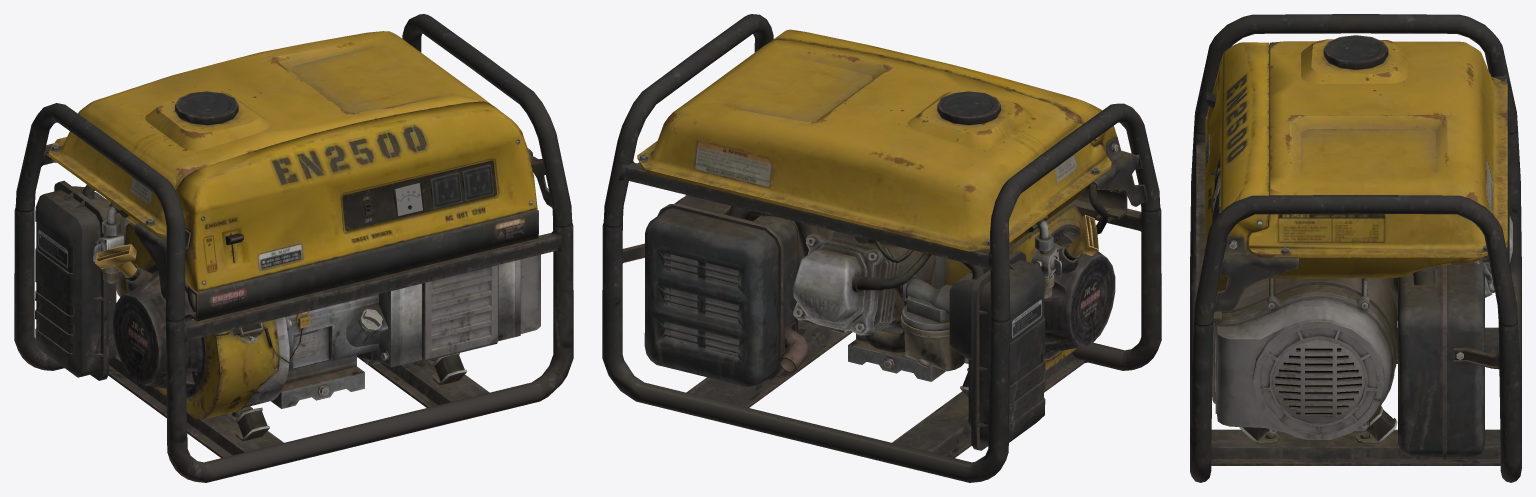
The model's file is portable_generator.glb.
3 views of the same model, side by side, from view 1: azimuth 30°, elevation 25°; view 2: azimuth 150°, elevation 25°; view 3: azimuth 270°, elevation 25° (orthographic).
Visible parts, largest first — view 1: portable_generator; view 2: portable_generator; view 3: portable_generator.
Part boxes in pixels (box(x1,y1,x2,y2)): portable_generator: box(14, 14, 573, 482); portable_generator: box(602, 14, 1161, 482); portable_generator: box(1190, 14, 1521, 482).
Bounding box in the file's own units: 0.8169 × 0.5752 × 0.564.
2 materials, 2 textured.
